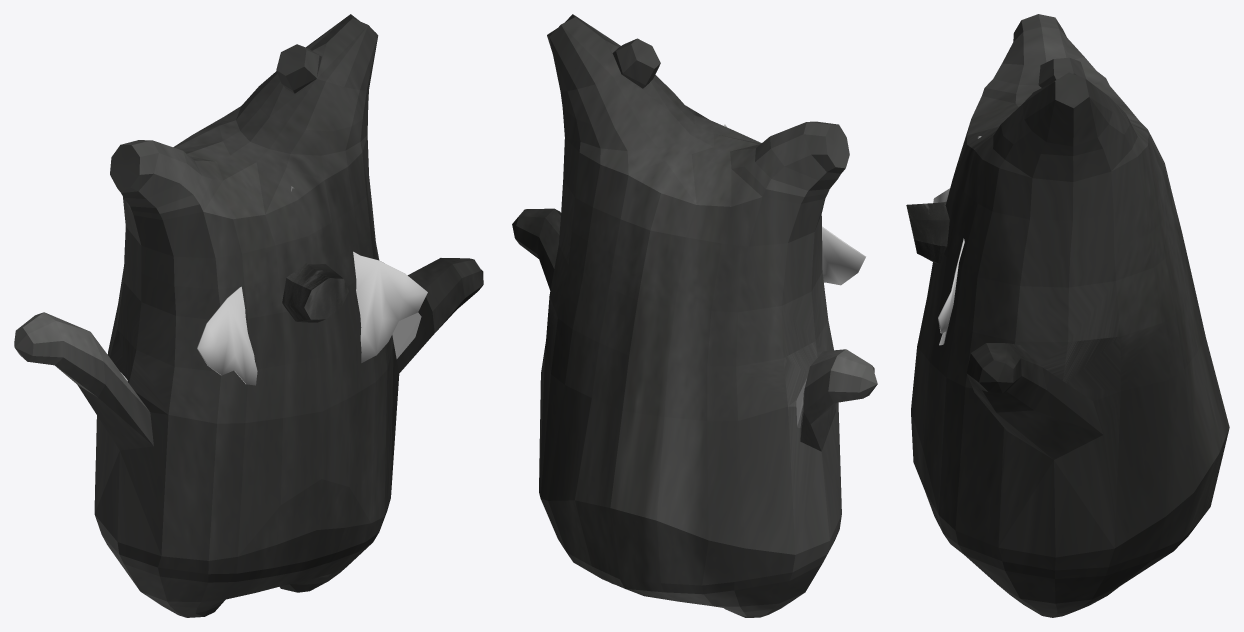
The model's file is frame_0009.obj.
3 renders of one model, left to right at view 1: azimuth 30°, elevation 25°; view 2: azimuth 150°, elevation 25°; view 3: azimuth 270°, elevation 25°, orthographic. The views are drawn at different scales.
Parts seen in each view (by area): view 1: korok, leaf, nose; view 2: korok, leaf; view 3: korok, nose, leaf.
Boxes of the visible parts, x1,y1,x2,y2 form: korok: (14, 14, 483, 617); leaf: (197, 186, 427, 385); nose: (282, 263, 348, 322); korok: (512, 14, 877, 617); leaf: (724, 124, 865, 285); korok: (911, 14, 1229, 617); nose: (906, 201, 949, 263); leaf: (933, 136, 981, 345).
Bounding box in the file's own units: 1.81 × 2.31 × 1.18.
